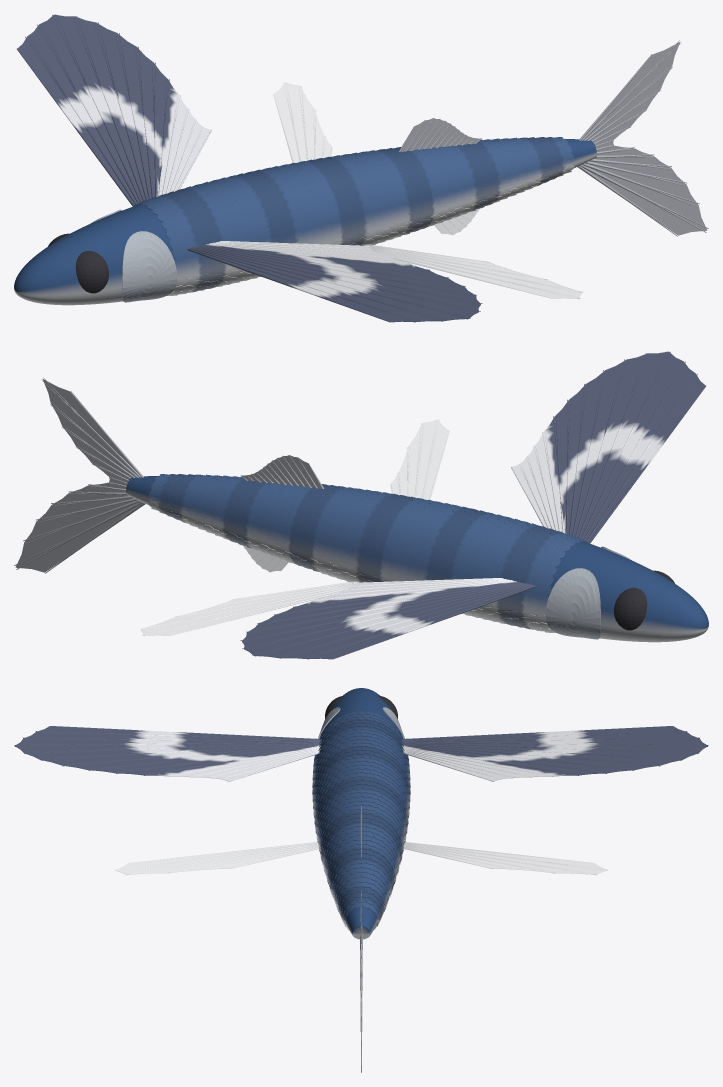
Rendered from fish-juvenile-bars-design.glb.
The picture shows the model from 3 angles, top to bottom: view 1: azimuth 30°, elevation 25°; view 2: azimuth 150°, elevation 25°; view 3: azimuth 270°, elevation 25°; orthographic projection. The views are drawn at different scales.
Parts seen in each view (by area): view 1: scales, pectoral_L, pectoral_R, caudal, body, pelvic_R, operculum_R, pelvic_L, dorsal, eye_R, anal; view 2: scales, pectoral_R, pectoral_L, caudal, body, pelvic_L, operculum_L, pelvic_R, dorsal, eye_L, anal; view 3: scales, pectoral_L, pectoral_R, body, pelvic_L, pelvic_R.
Part boxes in pixels (left/top/right/bottom): scales: left=133, top=137, right=574, bottom=295; pectoral_L: left=17, top=14, right=211, bottom=206; pectoral_R: left=187, top=241, right=482, bottom=322; caudal: left=577, top=40, right=708, bottom=236; body: left=14, top=139, right=596, bottom=305; pelvic_R: left=364, top=244, right=583, bottom=299; operculum_R: left=122, top=231, right=177, bottom=302; pelvic_L: left=273, top=82, right=332, bottom=162; dorsal: left=399, top=118, right=482, bottom=151; eye_R: left=75, top=250, right=108, bottom=293; anal: left=434, top=208, right=479, bottom=235; scales: left=148, top=474, right=589, bottom=632; pectoral_R: left=511, top=351, right=705, bottom=543; pectoral_L: left=240, top=578, right=535, bottom=659; caudal: left=14, top=377, right=145, bottom=573; body: left=126, top=476, right=708, bottom=642; pelvic_L: left=139, top=581, right=358, bottom=636; operculum_L: left=545, top=568, right=600, bottom=639; pelvic_R: left=390, top=419, right=449, bottom=499; dorsal: left=240, top=455, right=323, bottom=488; eye_L: left=614, top=587, right=647, bottom=630; anal: left=243, top=545, right=288, bottom=572; scales: left=312, top=711, right=410, bottom=929; pectoral_L: left=401, top=726, right=708, bottom=781; pectoral_R: left=14, top=726, right=321, bottom=781; body: left=314, top=688, right=408, bottom=939; pelvic_L: left=404, top=842, right=607, bottom=875; pelvic_R: left=115, top=842, right=318, bottom=875.
Bounding box in the file's own units: 0.1912 × 0.0525 × 0.1988.
